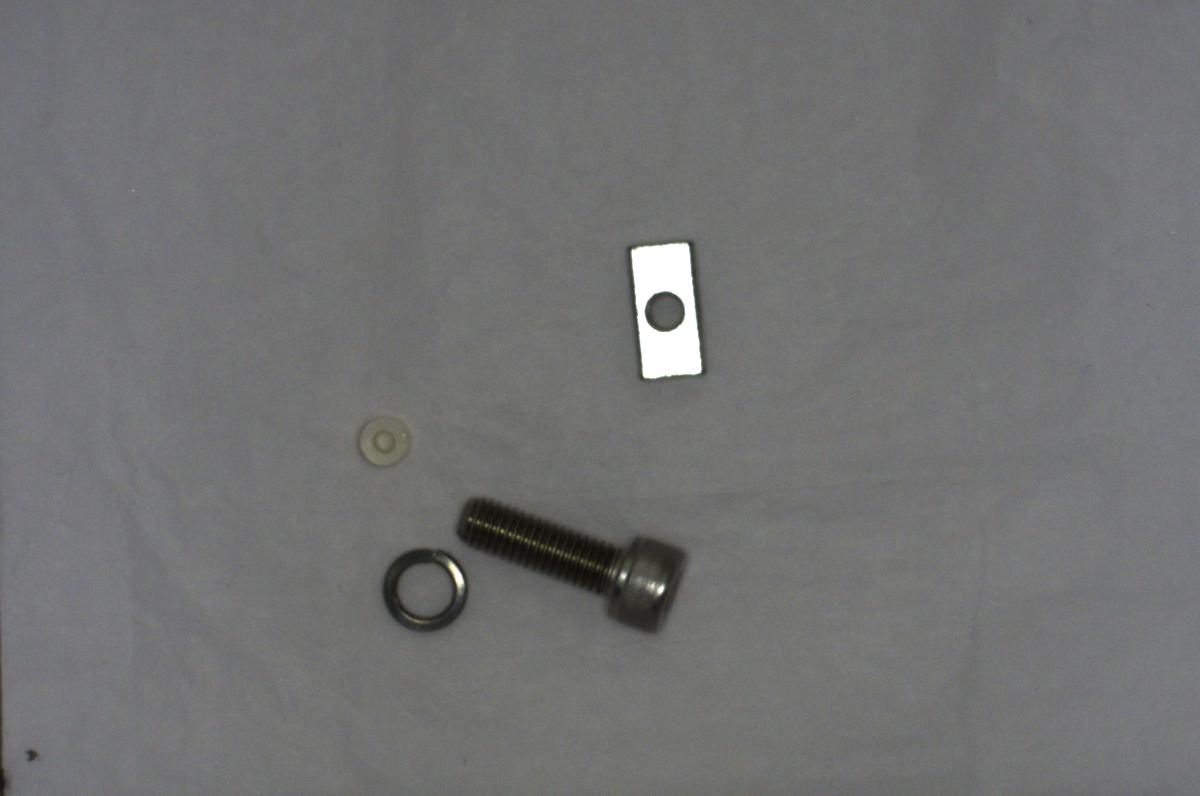Hexagon screw: (452, 487, 692, 633)
Plastic cushion pillar: (347, 406, 412, 472)
Rectangular nut: (619, 233, 707, 390)
Spring washer: (374, 542, 468, 632)
